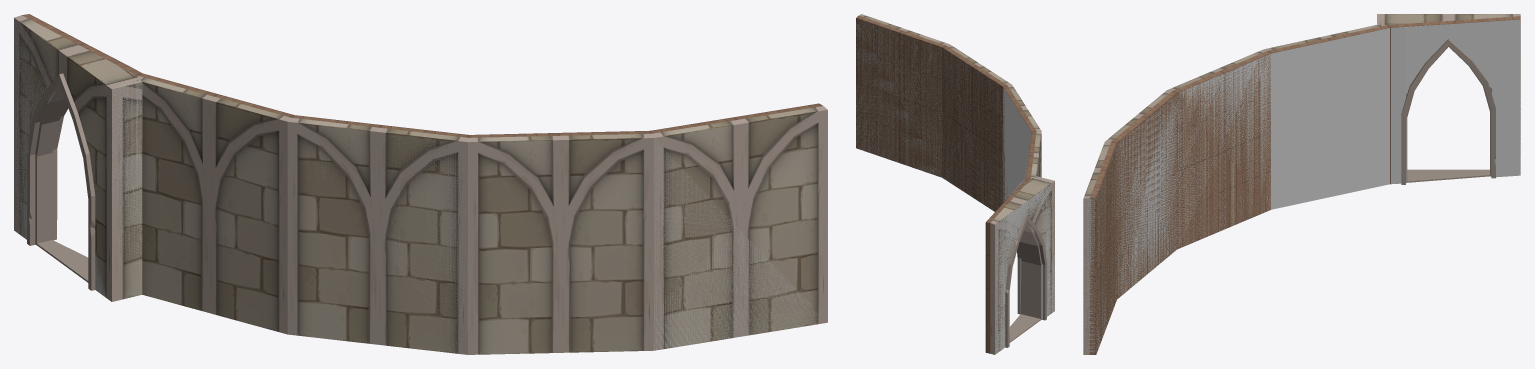
Rendered from SM_Bld_Wall_Doorway_Curved_02.fbx.
The picture shows the model from 3 angles, left to right: view 1: azimuth 30°, elevation 25°; view 2: azimuth 150°, elevation 25°; view 3: azimuth 270°, elevation 25°; orthographic projection. The views are drawn at different scales.
Parts seen in each view (by area): view 1: SM_Bld_Wall_Doorway_Curved_02, SM_Bld_Wall_Doorway_Curved_02_ConvexHulls; view 2: SM_Bld_Wall_Doorway_Curved_02, SM_Bld_Wall_Doorway_Curved_02_ConvexHulls; view 3: SM_Bld_Wall_Doorway_Curved_02_ConvexHulls, SM_Bld_Wall_Doorway_Curved_02.
Boxes of the visible parts, bbox=[...] form: SM_Bld_Wall_Doorway_Curved_02: bbox=[14, 14, 827, 354]; SM_Bld_Wall_Doorway_Curved_02_ConvexHulls: bbox=[14, 18, 820, 353]; SM_Bld_Wall_Doorway_Curved_02: bbox=[856, 14, 1054, 354]; SM_Bld_Wall_Doorway_Curved_02_ConvexHulls: bbox=[856, 19, 1054, 353]; SM_Bld_Wall_Doorway_Curved_02_ConvexHulls: bbox=[1083, 19, 1520, 353]; SM_Bld_Wall_Doorway_Curved_02: bbox=[1083, 14, 1520, 354].
Bounding box in the file's own units: 767 × 761 × 301.
Materials: 4 (3 with a texture image).
